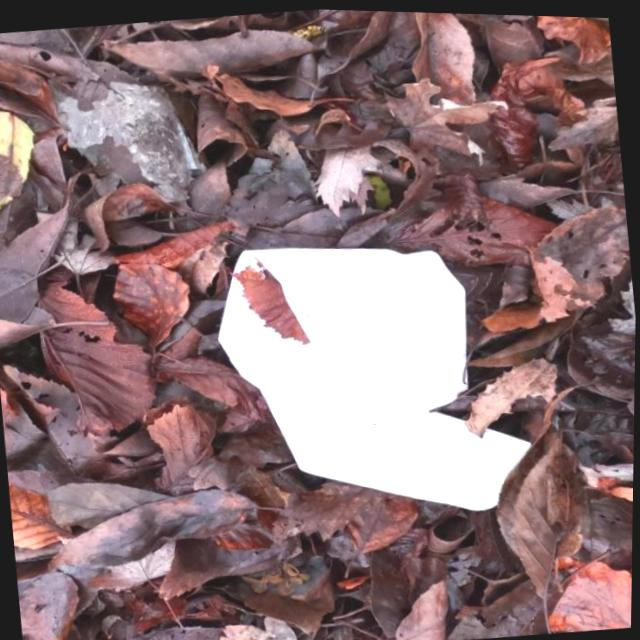Paper: (201, 211, 549, 538)
